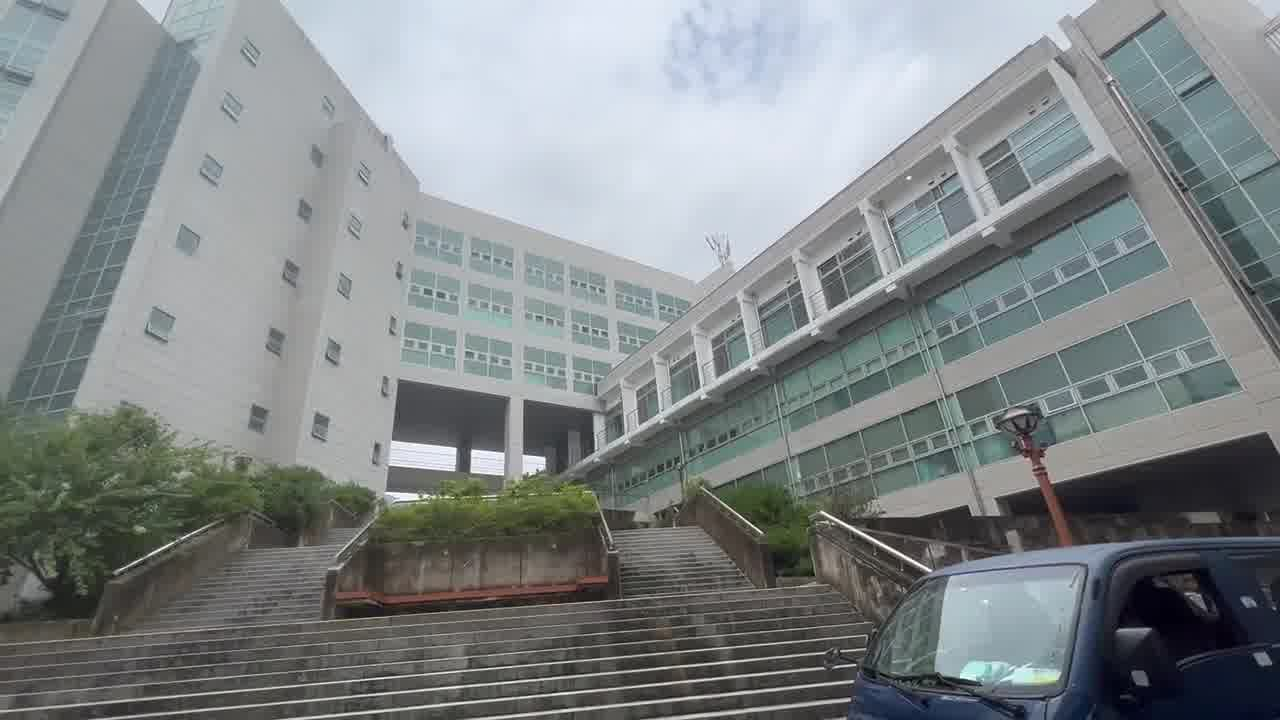medium: (0, 16, 1252, 416)
